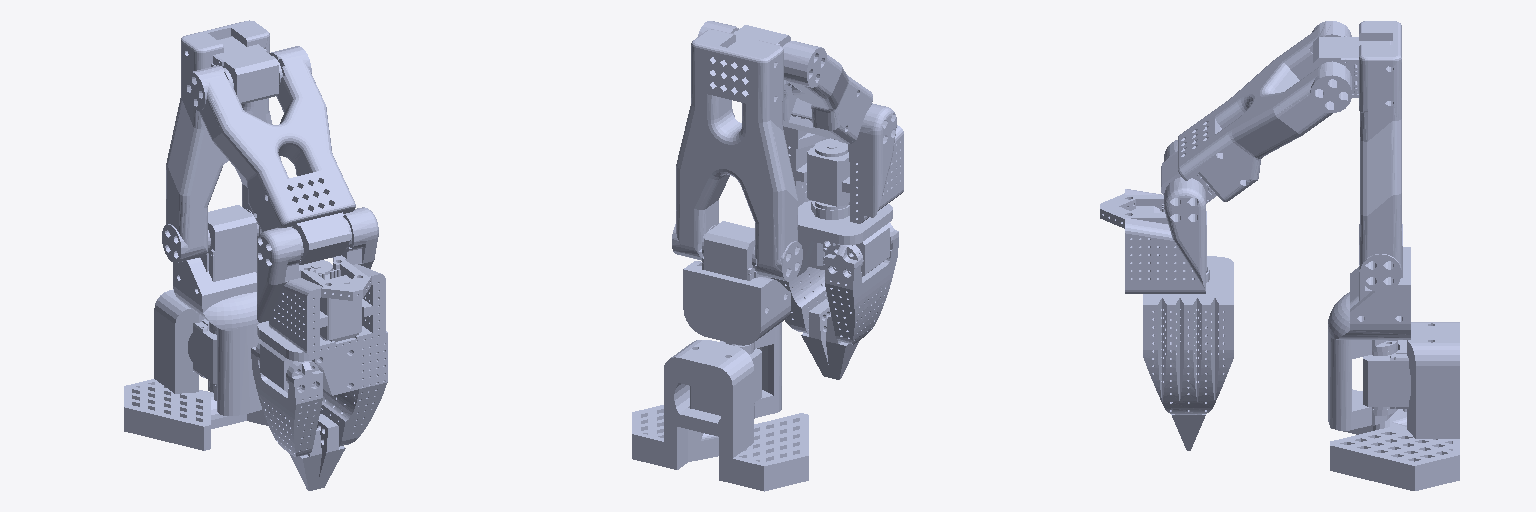
robot.urdf — SO_5DOF_ARM100_05d.SLDASM:
<?xml version="1.0" encoding="utf-8"?>
<!-- This URDF was automatically created by SolidWorks to URDF Exporter! Originally created by [author] ([email redacted]) 
     Commit Version: 1.6.0-1-g15f4949  Build Version: 1.6.7594.29634
     For more information, please see http://wiki.ros.org/sw_urdf_exporter -->
<robot
  name="SO_5DOF_ARM100_05d.SLDASM">
  <link
    name="Base">
    <inertial>
      <origin
        xyz="-1.55220299024015E-10 0.0275980388649202 0.0272094138963763"
        rpy="0 0 0" />
      <mass
        value="0.146962928243327" />
      <inertia
        ixx="9.5191642834079E-05"
        ixy="2.02405274856147E-12"
        ixz="1.46514387606669E-13"
        iyy="0.000123785814019492"
        iyz="1.84608762035329E-05"
        izz="0.000137926707148466" />
    </inertial>
    <visual>
      <origin
        xyz="0 0 0"
        rpy="0 0 0" />
      <geometry>
        <mesh
          filename="package://SO_5DOF_ARM100_05d.SLDASM/meshes/Base.STL" />
      </geometry>
      <material
        name="">
        <color
          rgba="0.792156862745098 0.819607843137255 0.933333333333333 1" />
      </material>
    </visual>
    <collision>
      <origin
        xyz="0 0 0"
        rpy="0 0 0" />
      <geometry>
        <mesh
          filename="package://SO_5DOF_ARM100_05d.SLDASM/meshes/Base.STL" />
      </geometry>
    </collision>
  </link>
  <link
    name="Shoulder_Rotation_Pitch">
    <inertial>
      <origin
        xyz="-0.00511938391873139 0.0678779339349912 -0.000127472379243391"
        rpy="0 0 0" />
      <mass
        value="0.111780100254674" />
      <inertia
        ixx="7.03890301713851E-05"
        ixy="-1.55093016866869E-05"
        ixz="1.67387694867946E-07"
        iyy="3.32352621027575E-05"
        iyz="9.30705606418705E-07"
        izz="7.08694473647387E-05" />
    </inertial>
    <visual>
      <origin
        xyz="0 0 0"
        rpy="0 0 0" />
      <geometry>
        <mesh
          filename="package://SO_5DOF_ARM100_05d.SLDASM/meshes/Shoulder_Rotation_Pitch.STL" />
      </geometry>
      <material
        name="">
        <color
          rgba="0.792156862745098 0.819607843137255 0.933333333333333 1" />
      </material>
    </visual>
    <collision>
      <origin
        xyz="0 0 0"
        rpy="0 0 0" />
      <geometry>
        <mesh
          filename="package://SO_5DOF_ARM100_05d.SLDASM/meshes/Shoulder_Rotation_Pitch.STL" />
      </geometry>
    </collision>
  </link>
  <joint
    name="Shoulder_Rotation"
    type="continuous">
    <origin
      xyz="0 -0.0452 0.0181"
      rpy="1.5708 0 1.5708" />
    <parent
      link="Base" />
    <child
      link="Shoulder_Rotation_Pitch" />
    <axis
      xyz="0 1 0" />
  </joint>
  <link
    name="Upper_Arm">
    <inertial>
      <origin
        xyz="-0.0693113774468845 0.00293741346964818 -7.61279219025209E-07"
        rpy="0 0 0" />
      <mass
        value="0.167601391353176" />
      <inertia
        ixx="7.75332201021328E-05"
        ixy="-2.10765620509824E-06"
        ixz="7.52685919931984E-07"
        iyy="0.000233751202018378"
        iyz="-1.63496162538793E-07"
        izz="0.000180452754687364" />
    </inertial>
    <visual>
      <origin
        xyz="0 0 0"
        rpy="0 0 0" />
      <geometry>
        <mesh
          filename="package://SO_5DOF_ARM100_05d.SLDASM/meshes/Upper_Arm.STL" />
      </geometry>
      <material
        name="">
        <color
          rgba="0.792156862745098 0.819607843137255 0.933333333333333 1" />
      </material>
    </visual>
    <collision>
      <origin
        xyz="0 0 0"
        rpy="0 0 0" />
      <geometry>
        <mesh
          filename="package://SO_5DOF_ARM100_05d.SLDASM/meshes/Upper_Arm.STL" />
      </geometry>
    </collision>
  </link>
  <joint
    name="Shoulder_Pitch"
    type="continuous">
    <origin
      xyz="0.000125 0.1086 0"
      rpy="3.1416 0 -1.5708" />
    <parent
      link="Shoulder_Rotation_Pitch" />
    <child
      link="Upper_Arm" />
    <axis
      xyz="0 0 1" />
  </joint>
  <link
    name="Lower_Arm">
    <inertial>
      <origin
        xyz="-0.0588290275819227 0.0021495318374051 0.000146772621039401"
        rpy="0 0 0" />
      <mass
        value="0.142523221917339" />
      <inertia
        ixx="6.29078989235053E-05"
        ixy="3.79294618448135E-06"
        ixz="1.70733512134003E-06"
        iyy="0.000146811163948232"
        iyz="-2.1474403445678E-07"
        izz="0.000102145070617562" />
    </inertial>
    <visual>
      <origin
        xyz="0 0 0"
        rpy="0 0 0" />
      <geometry>
        <mesh
          filename="package://SO_5DOF_ARM100_05d.SLDASM/meshes/Lower_Arm.STL" />
      </geometry>
      <material
        name="">
        <color
          rgba="0.792156862745098 0.819607843137255 0.933333333333333 1" />
      </material>
    </visual>
    <collision>
      <origin
        xyz="0 0 0"
        rpy="0 0 0" />
      <geometry>
        <mesh
          filename="package://SO_5DOF_ARM100_05d.SLDASM/meshes/Lower_Arm.STL" />
      </geometry>
    </collision>
  </link>
  <joint
    name="Elbow"
    type="continuous">
    <origin
      xyz="-0.11238 0.0282 0"
      rpy="0 0 -2.2391" />
    <parent
      link="Upper_Arm" />
    <child
      link="Lower_Arm" />
    <axis
      xyz="0 0 1" />
  </joint>
  <link
    name="Wrist_Pitch_Roll">
    <inertial>
      <origin
        xyz="-6.28656116854598E-09 -0.0087849429576346 -0.0309177852835532"
        rpy="0 0 0" />
      <mass
        value="0.106401896179987" />
      <inertia
        ixx="4.78947074364113E-05"
        ixy="-1.33871782943846E-11"
        ixz="-8.95740683864277E-12"
        iyy="7.01088408487287E-05"
        iyz="-5.49748507471695E-06"
        izz="6.17958653539553E-05" />
    </inertial>
    <visual>
      <origin
        xyz="0 0 0"
        rpy="0 0 0" />
      <geometry>
        <mesh
          filename="package://SO_5DOF_ARM100_05d.SLDASM/meshes/Wrist_Pitch_Roll.STL" />
      </geometry>
      <material
        name="">
        <color
          rgba="0.792156862745098 0.819607843137255 0.933333333333333 1" />
      </material>
    </visual>
    <collision>
      <origin
        xyz="0 0 0"
        rpy="0 0 0" />
      <geometry>
        <mesh
          filename="package://SO_5DOF_ARM100_05d.SLDASM/meshes/Wrist_Pitch_Roll.STL" />
      </geometry>
    </collision>
  </link>
  <joint
    name="Wrist_Pitch"
    type="continuous">
    <origin
      xyz="-0.1102 0.005375 0"
      rpy="0.90254 1.5708 0" />
    <parent
      link="Lower_Arm" />
    <child
      link="Wrist_Pitch_Roll" />
    <axis
      xyz="1 0 0" />
  </joint>
  <link
    name="Fixed_Gripper">
    <inertial>
      <origin
        xyz="-0.00772179942650385 -0.000555295978140996 0.0316941559340959"
        rpy="0 0 0" />
      <mass
        value="0.11710741874408" />
      <inertia
        ixx="5.67526018031759E-05"
        ixy="1.04098982658207E-06"
        ixz="8.53596077253277E-06"
        iyy="5.78441834179299E-05"
        iyz="-2.86014969245207E-07"
        izz="4.22399193495317E-05" />
    </inertial>
    <visual>
      <origin
        xyz="0 0 0"
        rpy="0 0 0" />
      <geometry>
        <mesh
          filename="package://SO_5DOF_ARM100_05d.SLDASM/meshes/Fixed_Gripper.STL" />
      </geometry>
      <material
        name="">
        <color
          rgba="0.792156862745098 0.819607843137255 0.933333333333333 1" />
      </material>
    </visual>
    <collision>
      <origin
        xyz="0 0 0"
        rpy="0 0 0" />
      <geometry>
        <mesh
          filename="package://SO_5DOF_ARM100_05d.SLDASM/meshes/Fixed_Gripper.STL" />
      </geometry>
    </collision>
  </link>
  <joint
    name="Wrist_Roll"
    type="continuous">
    <origin
      xyz="0 0.002 -0.0545"
      rpy="3.1416 0 3.1416" />
    <parent
      link="Wrist_Pitch_Roll" />
    <child
      link="Fixed_Gripper" />
    <axis
      xyz="0 0 1" />
  </joint>
  <link
    name="Moving_Jaw">
    <inertial>
      <origin
        xyz="-0.0033838985185846 -0.0322884362122416 0.000144458547748166"
        rpy="0 0 0" />
      <mass
        value="0.0347149174448153" />
      <inertia
        ixx="1.36949844449711E-05"
        ixy="-5.63192124555278E-07"
        ixz="-5.74449907399212E-09"
        iyy="7.04089001130743E-06"
        iyz="-1.05361496046931E-07"
        izz="8.28976960805291E-06" />
    </inertial>
    <visual>
      <origin
        xyz="0 0 0"
        rpy="0 0 0" />
      <geometry>
        <mesh
          filename="package://SO_5DOF_ARM100_05d.SLDASM/meshes/Moving_Jaw.STL" />
      </geometry>
      <material
        name="">
        <color
          rgba="0.792156862745098 0.819607843137255 0.933333333333333 1" />
      </material>
    </visual>
    <collision>
      <origin
        xyz="0 0 0"
        rpy="0 0 0" />
      <geometry>
        <mesh
          filename="package://SO_5DOF_ARM100_05d.SLDASM/meshes/Moving_Jaw.STL" />
      </geometry>
    </collision>
  </link>
  <joint
    name="Gripper"
    type="continuous">
    <origin
      xyz="0.0202 0 0.024375"
      rpy="-1.5708 0 0" />
    <parent
      link="Fixed_Gripper" />
    <child
      link="Moving_Jaw" />
    <axis
      xyz="0 0 1" />
  </joint>
</robot>

--- What the picture shows (computed from the rendered views, not written in the file) ---
The picture shows the robot from 3 angles, left to right: view 1: azimuth 30°, elevation 25°; view 2: azimuth 150°, elevation 25°; view 3: azimuth 270°, elevation 25°; orthographic projection.
Robot: SO_5DOF_ARM100_05d.SLDASM — 7 links, 6 joints (6 continuous); root link Base; default pose: all joints at 0.
Links seen in each view (by area): view 1: Lower_Arm, Wrist_Pitch_Roll, Upper_Arm, Shoulder_Rotation_Pitch, Base, Fixed_Gripper, Moving_Jaw; view 2: Upper_Arm, Base, Shoulder_Rotation_Pitch, Wrist_Pitch_Roll, Fixed_Gripper, Lower_Arm, Moving_Jaw; view 3: Base, Lower_Arm, Upper_Arm, Fixed_Gripper, Wrist_Pitch_Roll, Shoulder_Rotation_Pitch.
Boxes of the visible links, x1=… form: Lower_Arm: x1=185, y1=46, x2=355, y2=264; Wrist_Pitch_Roll: x1=257, y1=207, x2=385, y2=356; Upper_Arm: x1=162, y1=20, x2=282, y2=262; Shoulder_Rotation_Pitch: x1=173, y1=205, x2=261, y2=415; Base: x1=124, y1=289, x2=268, y2=450; Fixed_Gripper: x1=257, y1=321, x2=387, y2=488; Moving_Jaw: x1=251, y1=340, x2=322, y2=490; Upper_Arm: x1=672, y1=25, x2=802, y2=281; Base: x1=632, y1=340, x2=808, y2=491; Shoulder_Rotation_Pitch: x1=683, y1=221, x2=790, y2=418; Wrist_Pitch_Roll: x1=783, y1=103, x2=903, y2=223; Fixed_Gripper: x1=771, y1=201, x2=892, y2=377; Lower_Arm: x1=698, y1=21, x2=872, y2=143; Moving_Jaw: x1=825, y1=222, x2=898, y2=379; Base: x1=1330, y1=322, x2=1459, y2=490; Lower_Arm: x1=1161, y1=21, x2=1351, y2=203; Upper_Arm: x1=1313, y1=21, x2=1401, y2=291; Fixed_Gripper: x1=1143, y1=256, x2=1233, y2=450; Wrist_Pitch_Roll: x1=1100, y1=140, x2=1206, y2=293; Shoulder_Rotation_Pitch: x1=1328, y1=224, x2=1410, y2=430.
Size in the robot's own frame: 0.1182 by 0.2049 by 0.2567 metres.
7 mesh visuals loaded from 7 distinct referenced files (7 binary STL).